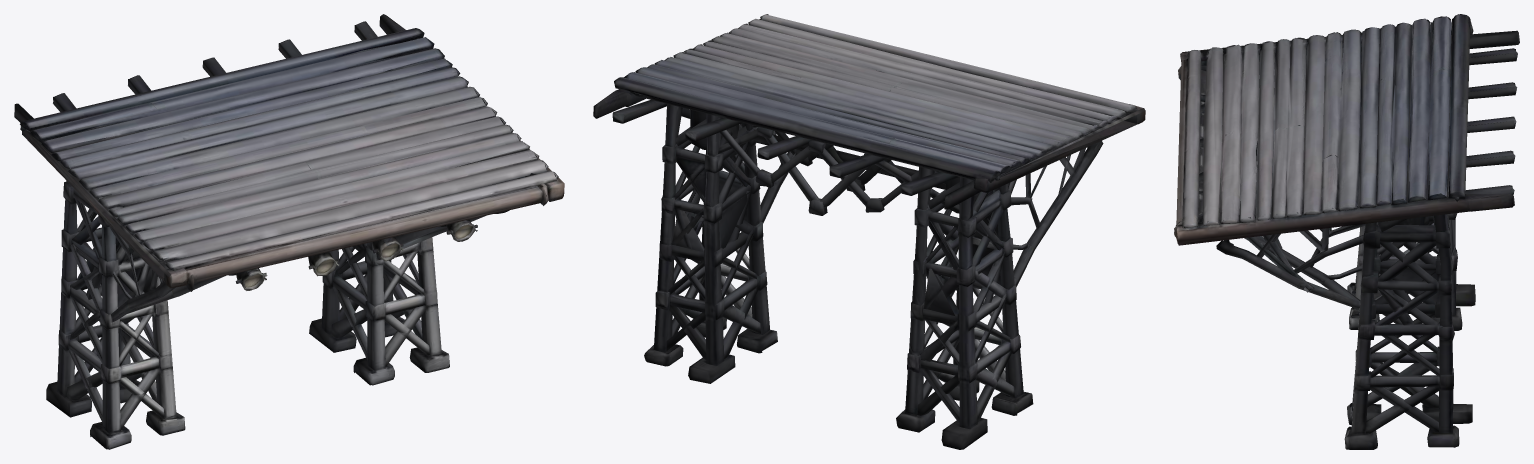
The model's file is roof_bay.glb.
The picture shows the model from 3 angles, left to right: view 1: azimuth 30°, elevation 25°; view 2: azimuth 150°, elevation 25°; view 3: azimuth 270°, elevation 25°; orthographic projection. The views are drawn at different scales.
Parts seen in each view (by area): view 1: roof_bay; view 2: roof_bay; view 3: roof_bay.
Boxes of the visible parts, x1=… form: roof_bay: x1=14, y1=14, x2=564, y2=449; roof_bay: x1=593, y1=14, x2=1145, y2=449; roof_bay: x1=1174, y1=14, x2=1519, y2=449.
Bounding box in the file's own units: 1 × 0.6923 × 0.8039.
1 material, 1 textured.
